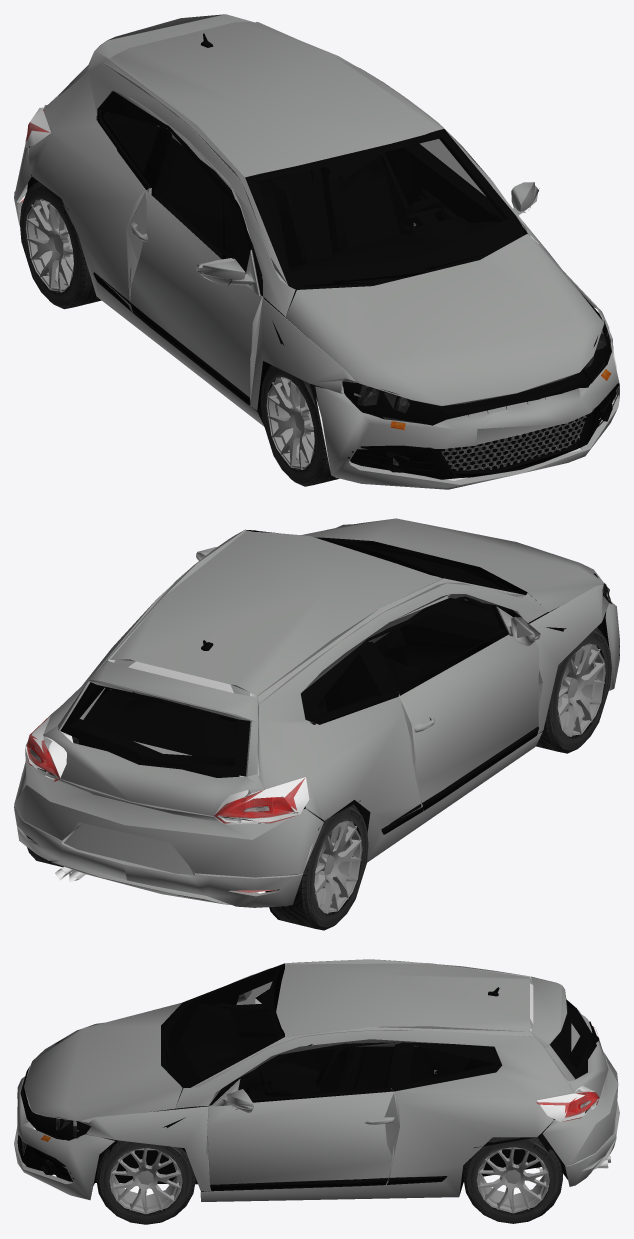
The model's file is hatchback-euro.glb.
3 renders of one model, top to bottom at view 1: azimuth 30°, elevation 25°; view 2: azimuth 150°, elevation 25°; view 3: azimuth 270°, elevation 25°, orthographic. The views are drawn at different scales.
Visible parts, largest first — view 1: Body, WheelRR, WheelFR; view 2: Body, WheelRR, WheelFR; view 3: Body, WheelRL, WheelFL.
Part boxes in pixels (x1,y1,x2,y2): Body: (14,14,619,489); WheelRR: (20,182,101,309); WheelFR: (260,365,339,486); Body: (14,518,619,907); WheelRR: (265,804,368,930); WheelFR: (536,627,611,753); Body: (14,959,619,1201); WheelRL: (463,1137,562,1223); WheelFL: (96,1140,195,1224).
Bounding box in the file's own units: 31 × 21.18 × 62.83.
14 materials, 5 textured.
